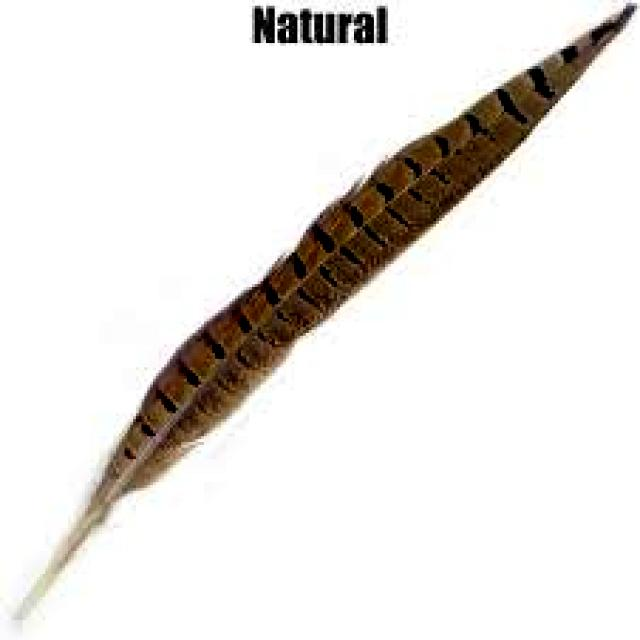Phasianus Colchicus: (20, 0, 637, 603)
